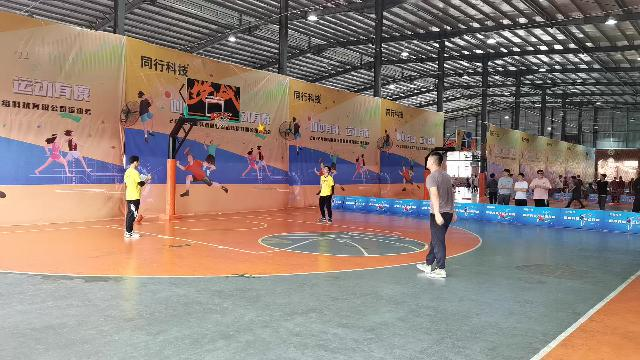ball: (257, 122, 265, 132)
basket: (210, 111, 232, 127)
